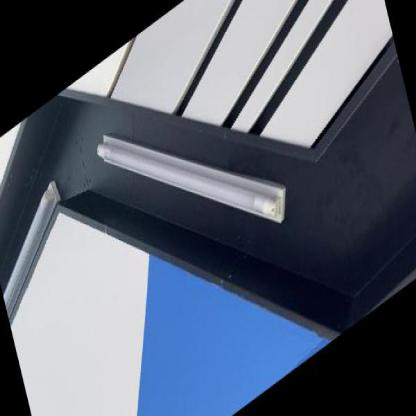light_off: (86, 6, 300, 343), (0, 147, 96, 376)
